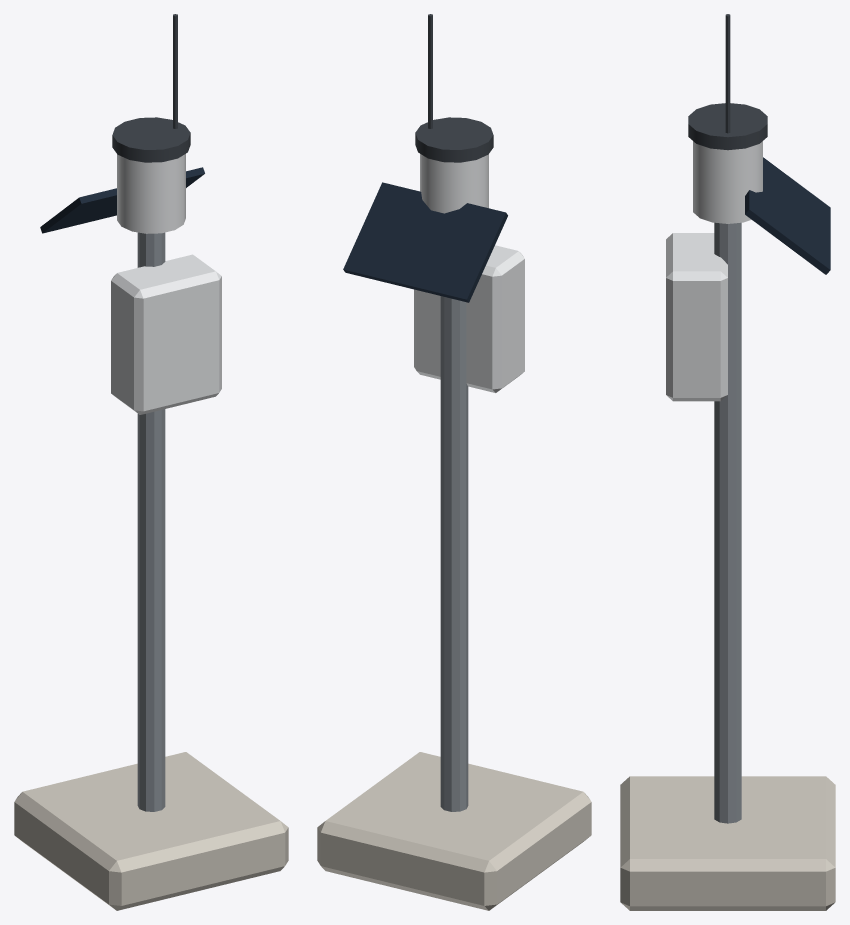
Rendered from sensor-node.glb.
3 renders of one model, left to right at view 1: azimuth 30°, elevation 25°; view 2: azimuth 150°, elevation 25°; view 3: azimuth 270°, elevation 25°, orthographic. The views are drawn at different scales.
Visible parts, largest first — view 1: sensor_node__concrete_light, sensor_node__sensor_white, sensor_node__steel, sensor_node__steel_dark, sensor_node__solar; view 2: sensor_node__concrete_light, sensor_node__steel, sensor_node__sensor_white, sensor_node__solar, sensor_node__steel_dark; view 3: sensor_node__concrete_light, sensor_node__steel, sensor_node__sensor_white, sensor_node__solar, sensor_node__steel_dark.
Boxes of the visible parts, box(x1,y1,x2,y2) form: sensor_node__concrete_light: box(14, 752, 288, 910); sensor_node__sensor_white: box(111, 154, 221, 414); sensor_node__steel: box(137, 232, 165, 811); sensor_node__steel_dark: box(112, 14, 190, 162); sensor_node__solar: box(40, 167, 204, 233); sensor_node__concrete_light: box(317, 752, 591, 910); sensor_node__steel: box(440, 296, 468, 811); sensor_node__sensor_white: box(414, 154, 524, 392); sensor_node__solar: box(343, 182, 507, 302); sensor_node__steel_dark: box(415, 14, 493, 162); sensor_node__concrete_light: box(620, 776, 835, 910); sensor_node__steel: box(714, 222, 741, 823); sensor_node__sensor_white: box(666, 141, 762, 401); sensor_node__solar: box(745, 157, 830, 274); sensor_node__steel_dark: box(688, 14, 767, 150).
Size of the model in its own units: 0.9 by 4 by 0.9.
